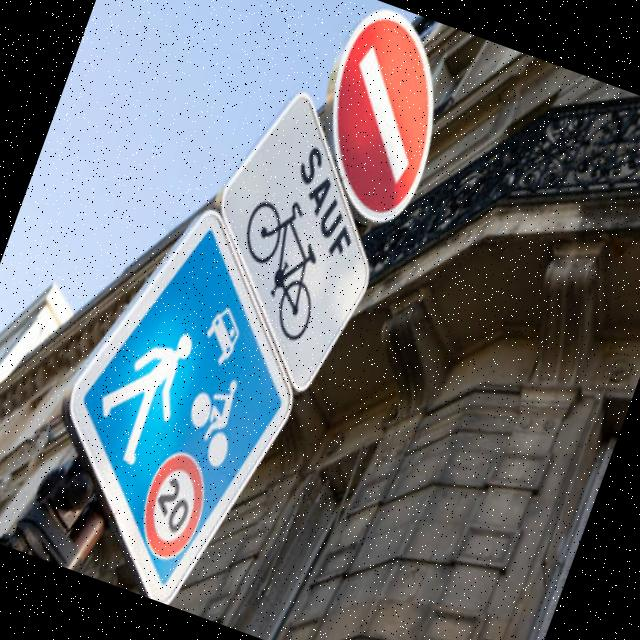do_not_enter: (274, 0, 479, 238)
